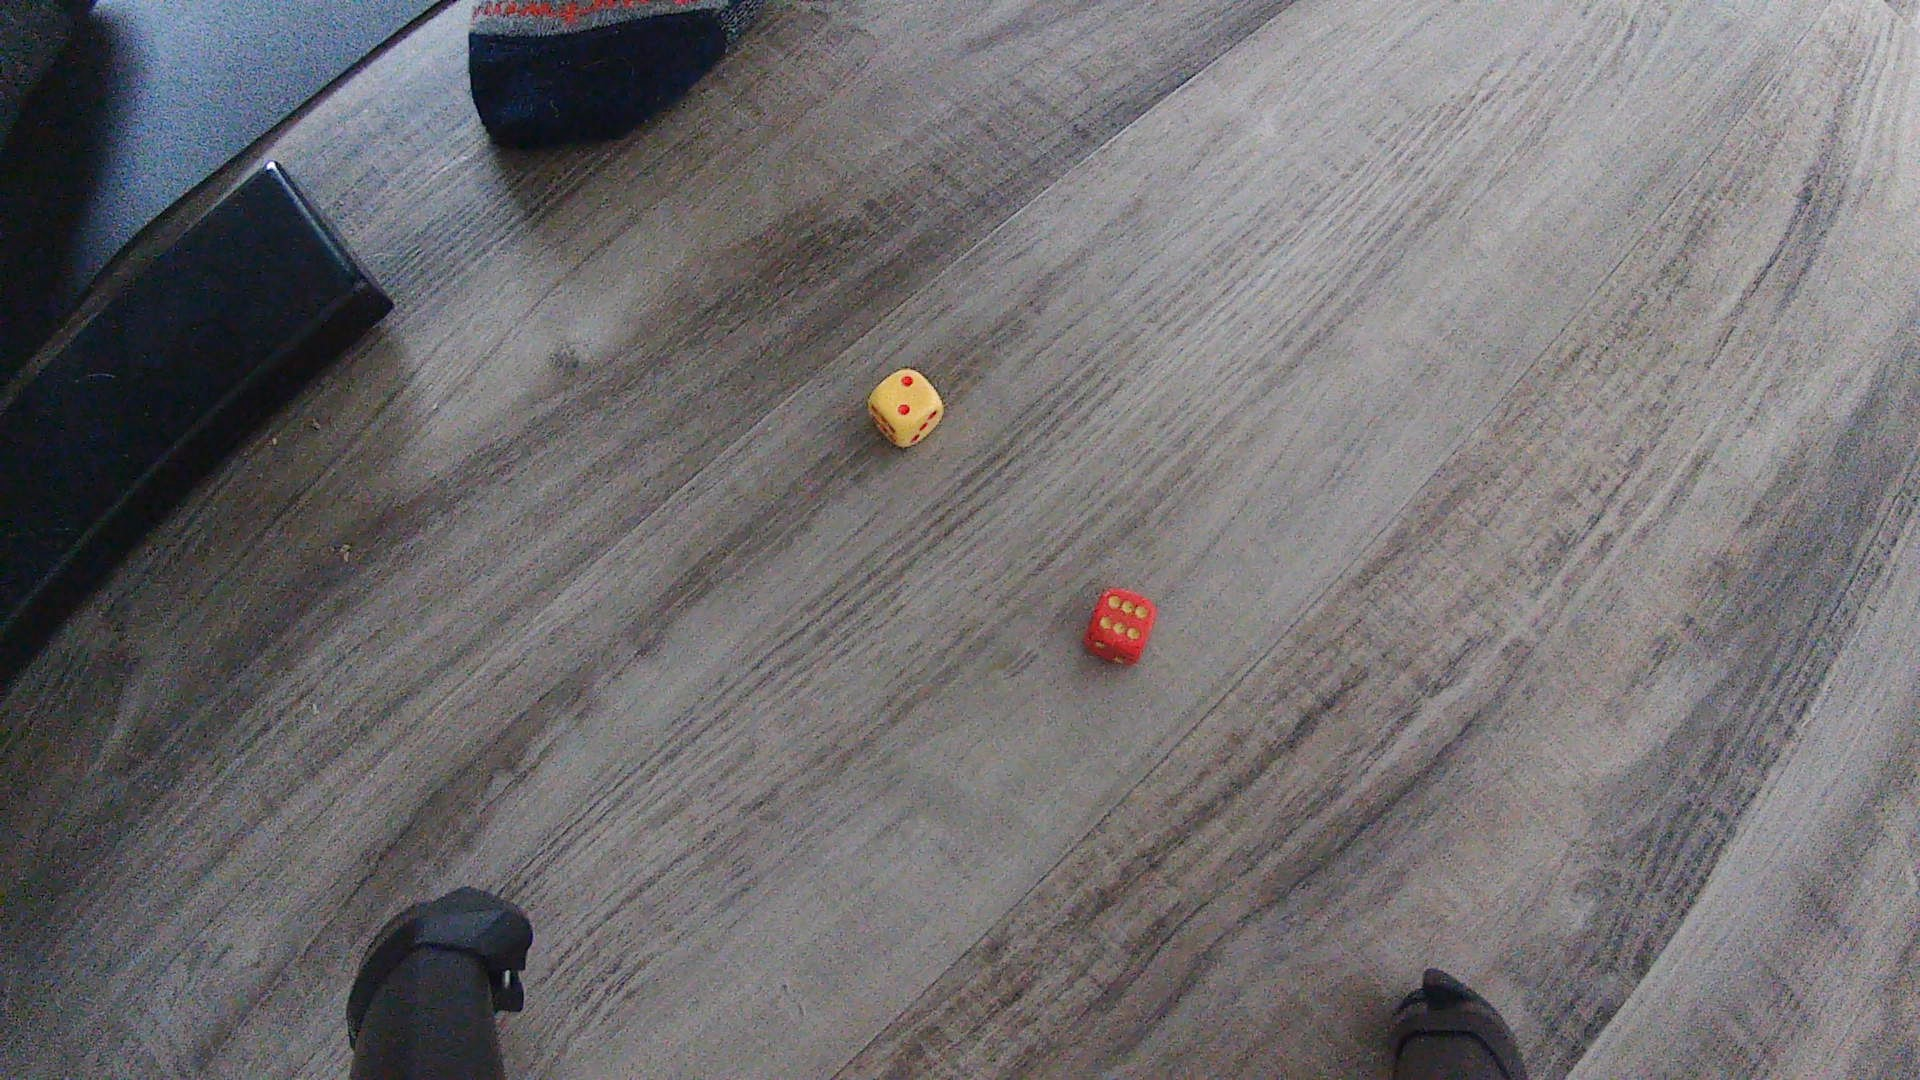die: (866, 367, 945, 448), (1083, 587, 1158, 667)
